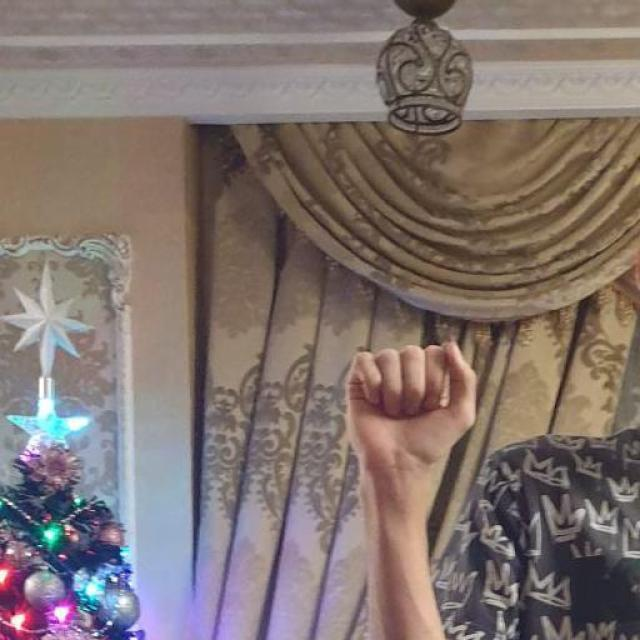hand: (343, 338, 478, 470)
